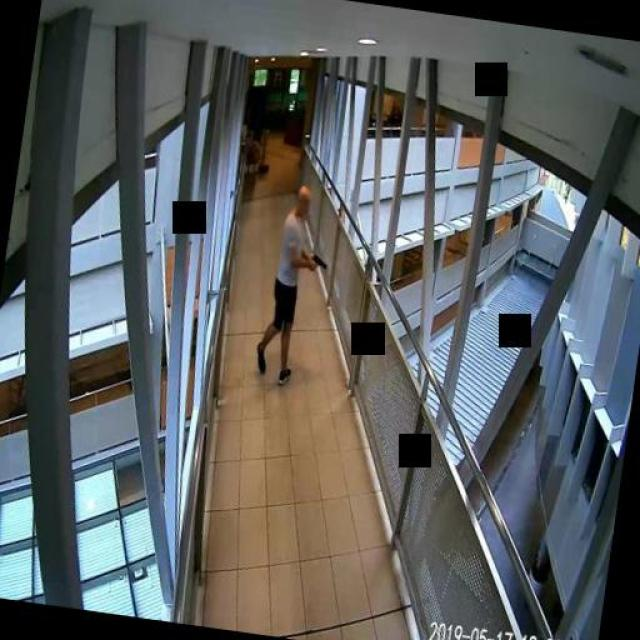gun: (308, 252, 328, 272)
